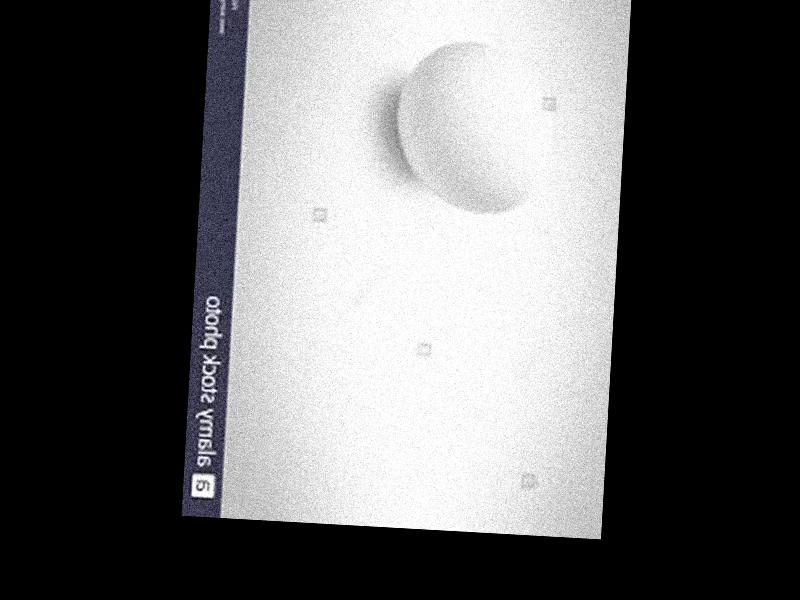Eggs: (391, 36, 554, 215)
